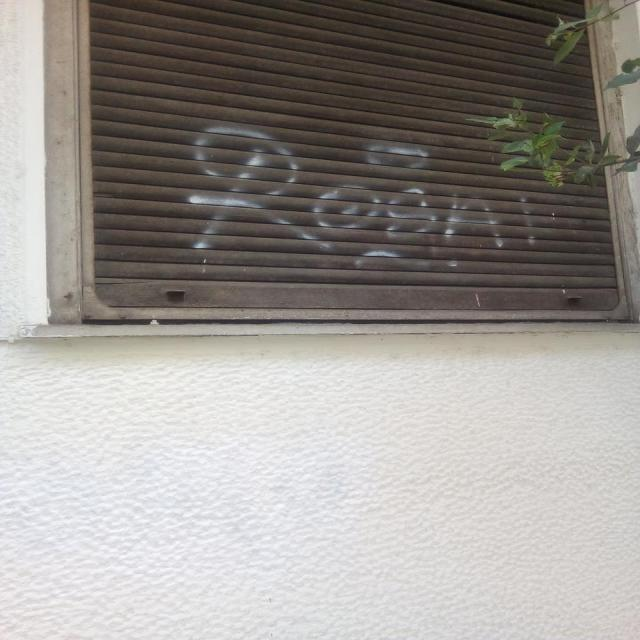nonspitting: (188, 126, 556, 266)
